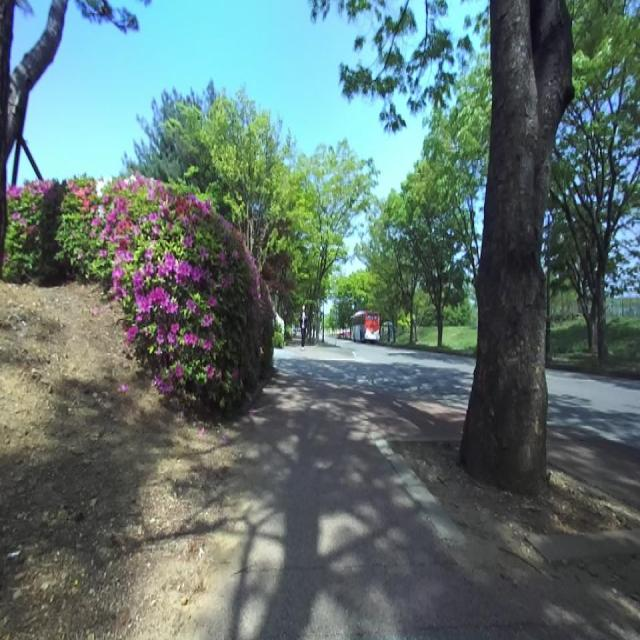sidewalk: (199, 372, 640, 639)
